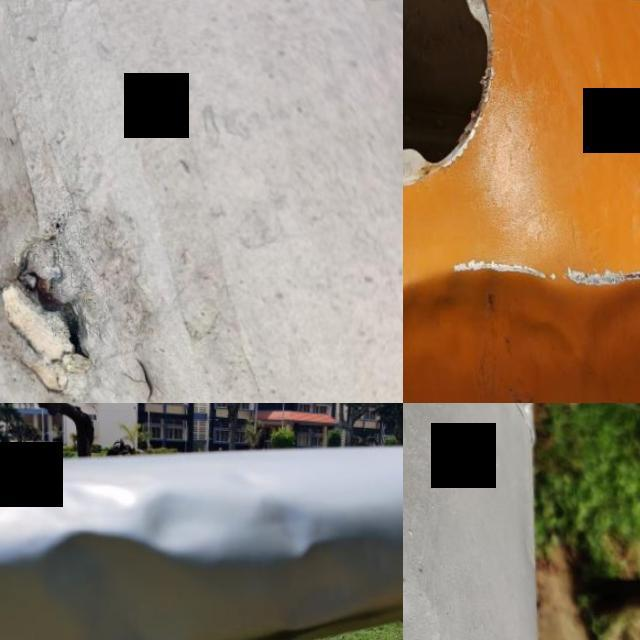Crack: (0, 221, 126, 403)
Dent: (0, 454, 390, 640), (403, 270, 566, 379), (576, 281, 640, 363)
